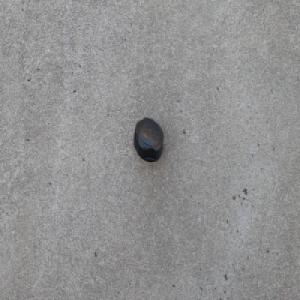FuelCap: (132, 116, 164, 163)
